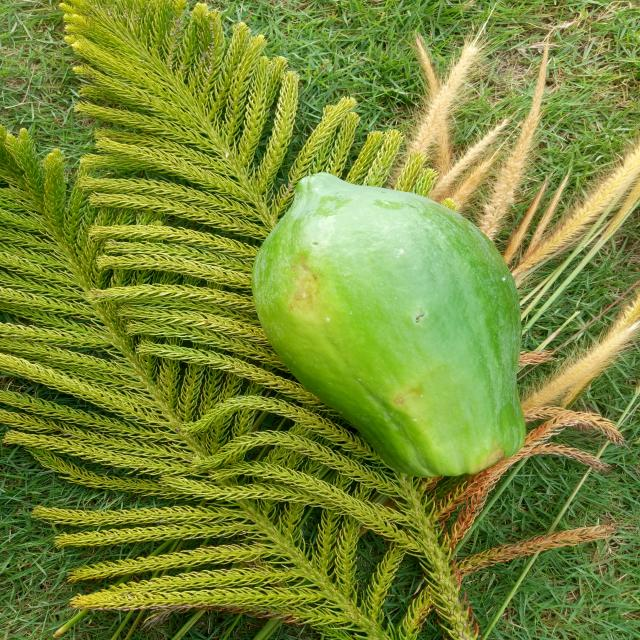Pepaya unrippen: (244, 172, 538, 489)
